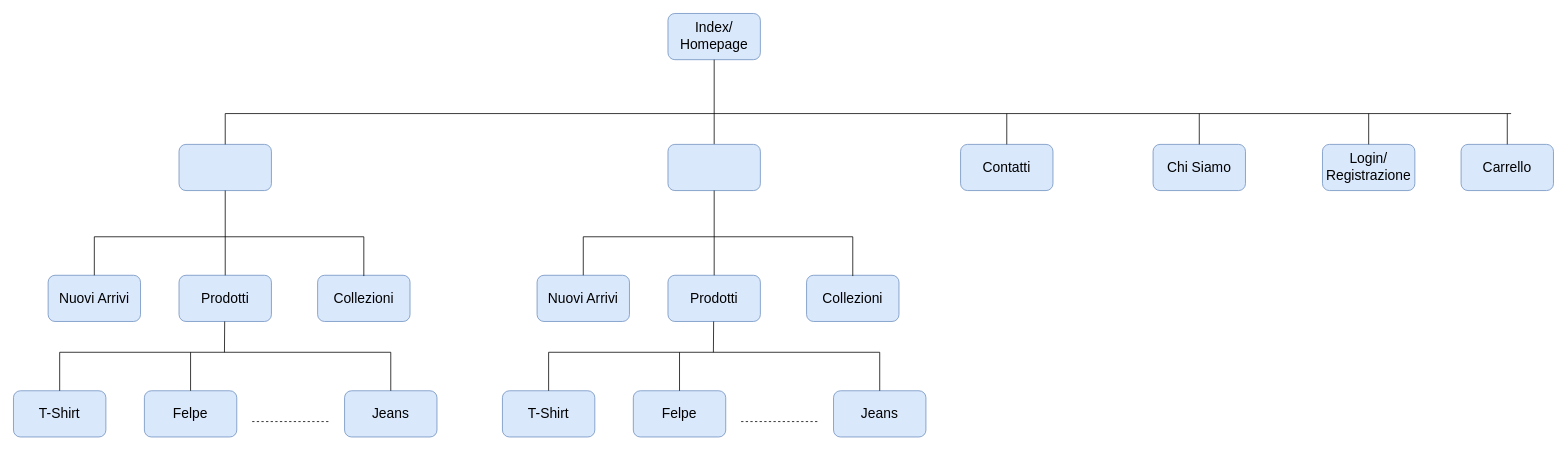
Some shapes in this 1567 by 450 pixel diagram are drawn without their labels. The box of each missing label's shape, as (x1, y1, x2, y2) in pixels:
Donna: (667, 144, 760, 191)
Uomo: (178, 144, 271, 191)
